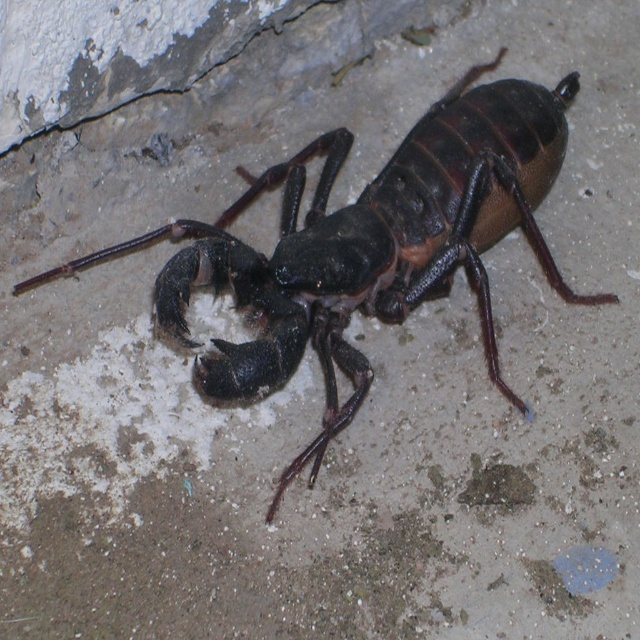Scorpion: (10, 35, 628, 527)
